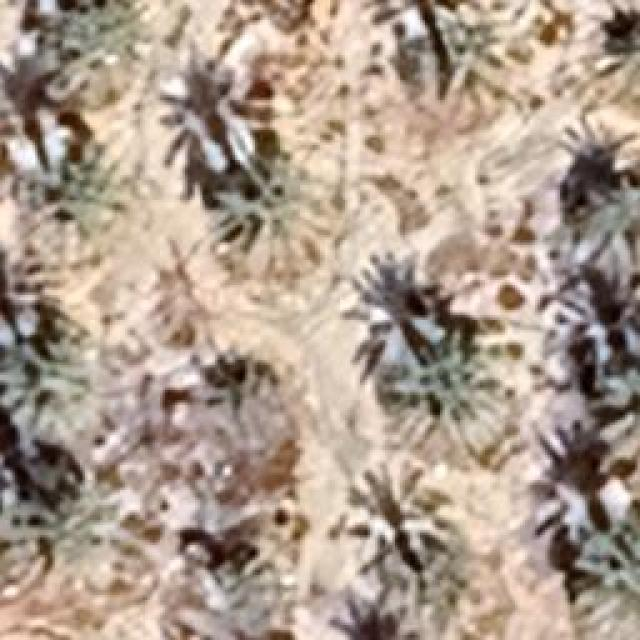PalmTree: (37, 50, 618, 124), (154, 60, 268, 185), (165, 532, 295, 640), (2, 301, 100, 441), (525, 431, 640, 544), (176, 344, 292, 456), (381, 316, 491, 429), (340, 460, 450, 570), (18, 132, 126, 242), (406, 2, 522, 96), (8, 444, 92, 568), (36, 0, 136, 95), (200, 166, 302, 244), (568, 175, 638, 285), (568, 532, 638, 638), (575, 308, 640, 410), (331, 585, 451, 640), (595, 332, 640, 472), (366, 0, 472, 52)
